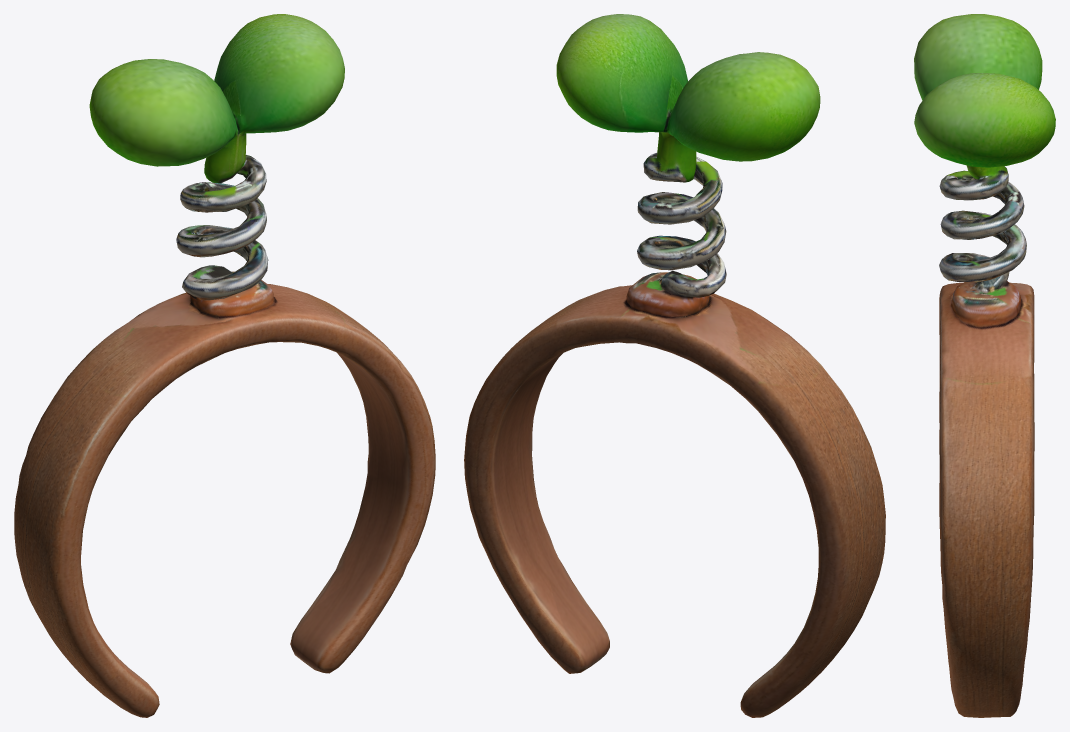
The model's file is hairband_sprout.glb.
3 renders of one model, left to right at view 1: azimuth 30°, elevation 25°; view 2: azimuth 150°, elevation 25°; view 3: azimuth 270°, elevation 25°, orthographic. The views are drawn at different scales.
Visible parts, largest first — view 1: texture_mapping; view 2: texture_mapping; view 3: texture_mapping.
Boxes of the visible parts, x1,y1,x2,y2 form: texture_mapping: (14,14,435,717); texture_mapping: (464,14,885,717); texture_mapping: (914,14,1055,717).
Bounding box in the file's own units: 0.6265 × 1 × 0.2063.
1 material, 1 textured.
